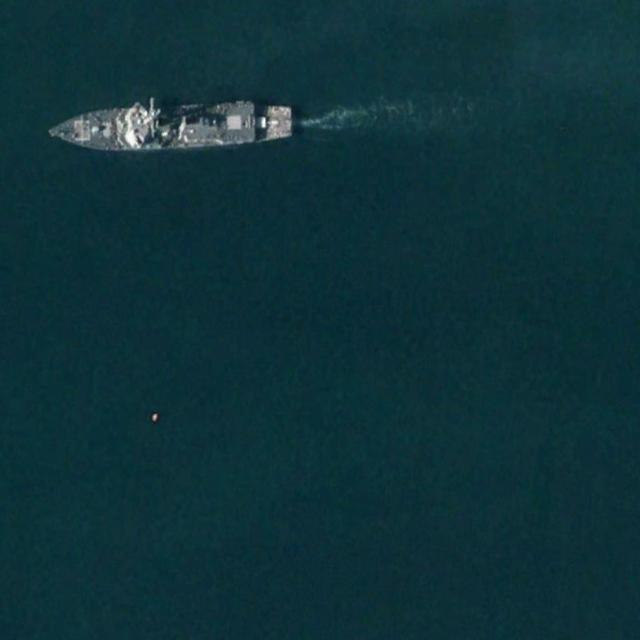Destroyer: (46, 93, 293, 156)
